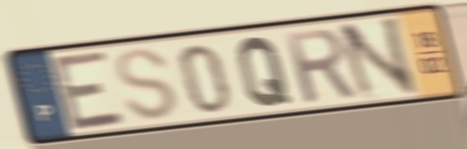0: (175, 41, 238, 115)
E: (48, 46, 130, 134)
N: (333, 12, 422, 105)
Q: (235, 34, 294, 110)
R: (280, 25, 360, 106)
S: (112, 46, 181, 124)
